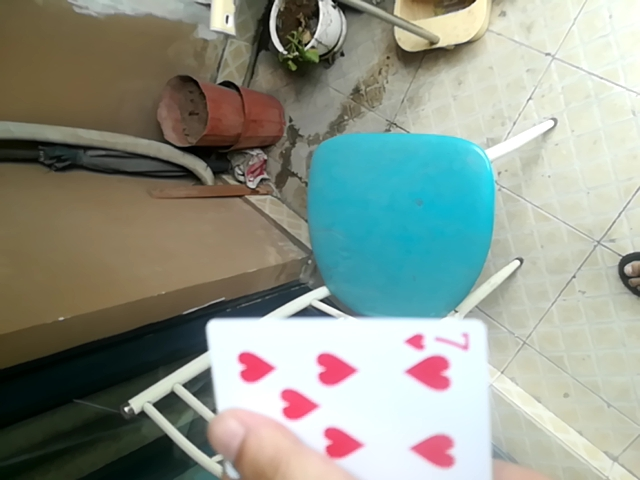hx 7: (206, 313, 492, 479)
